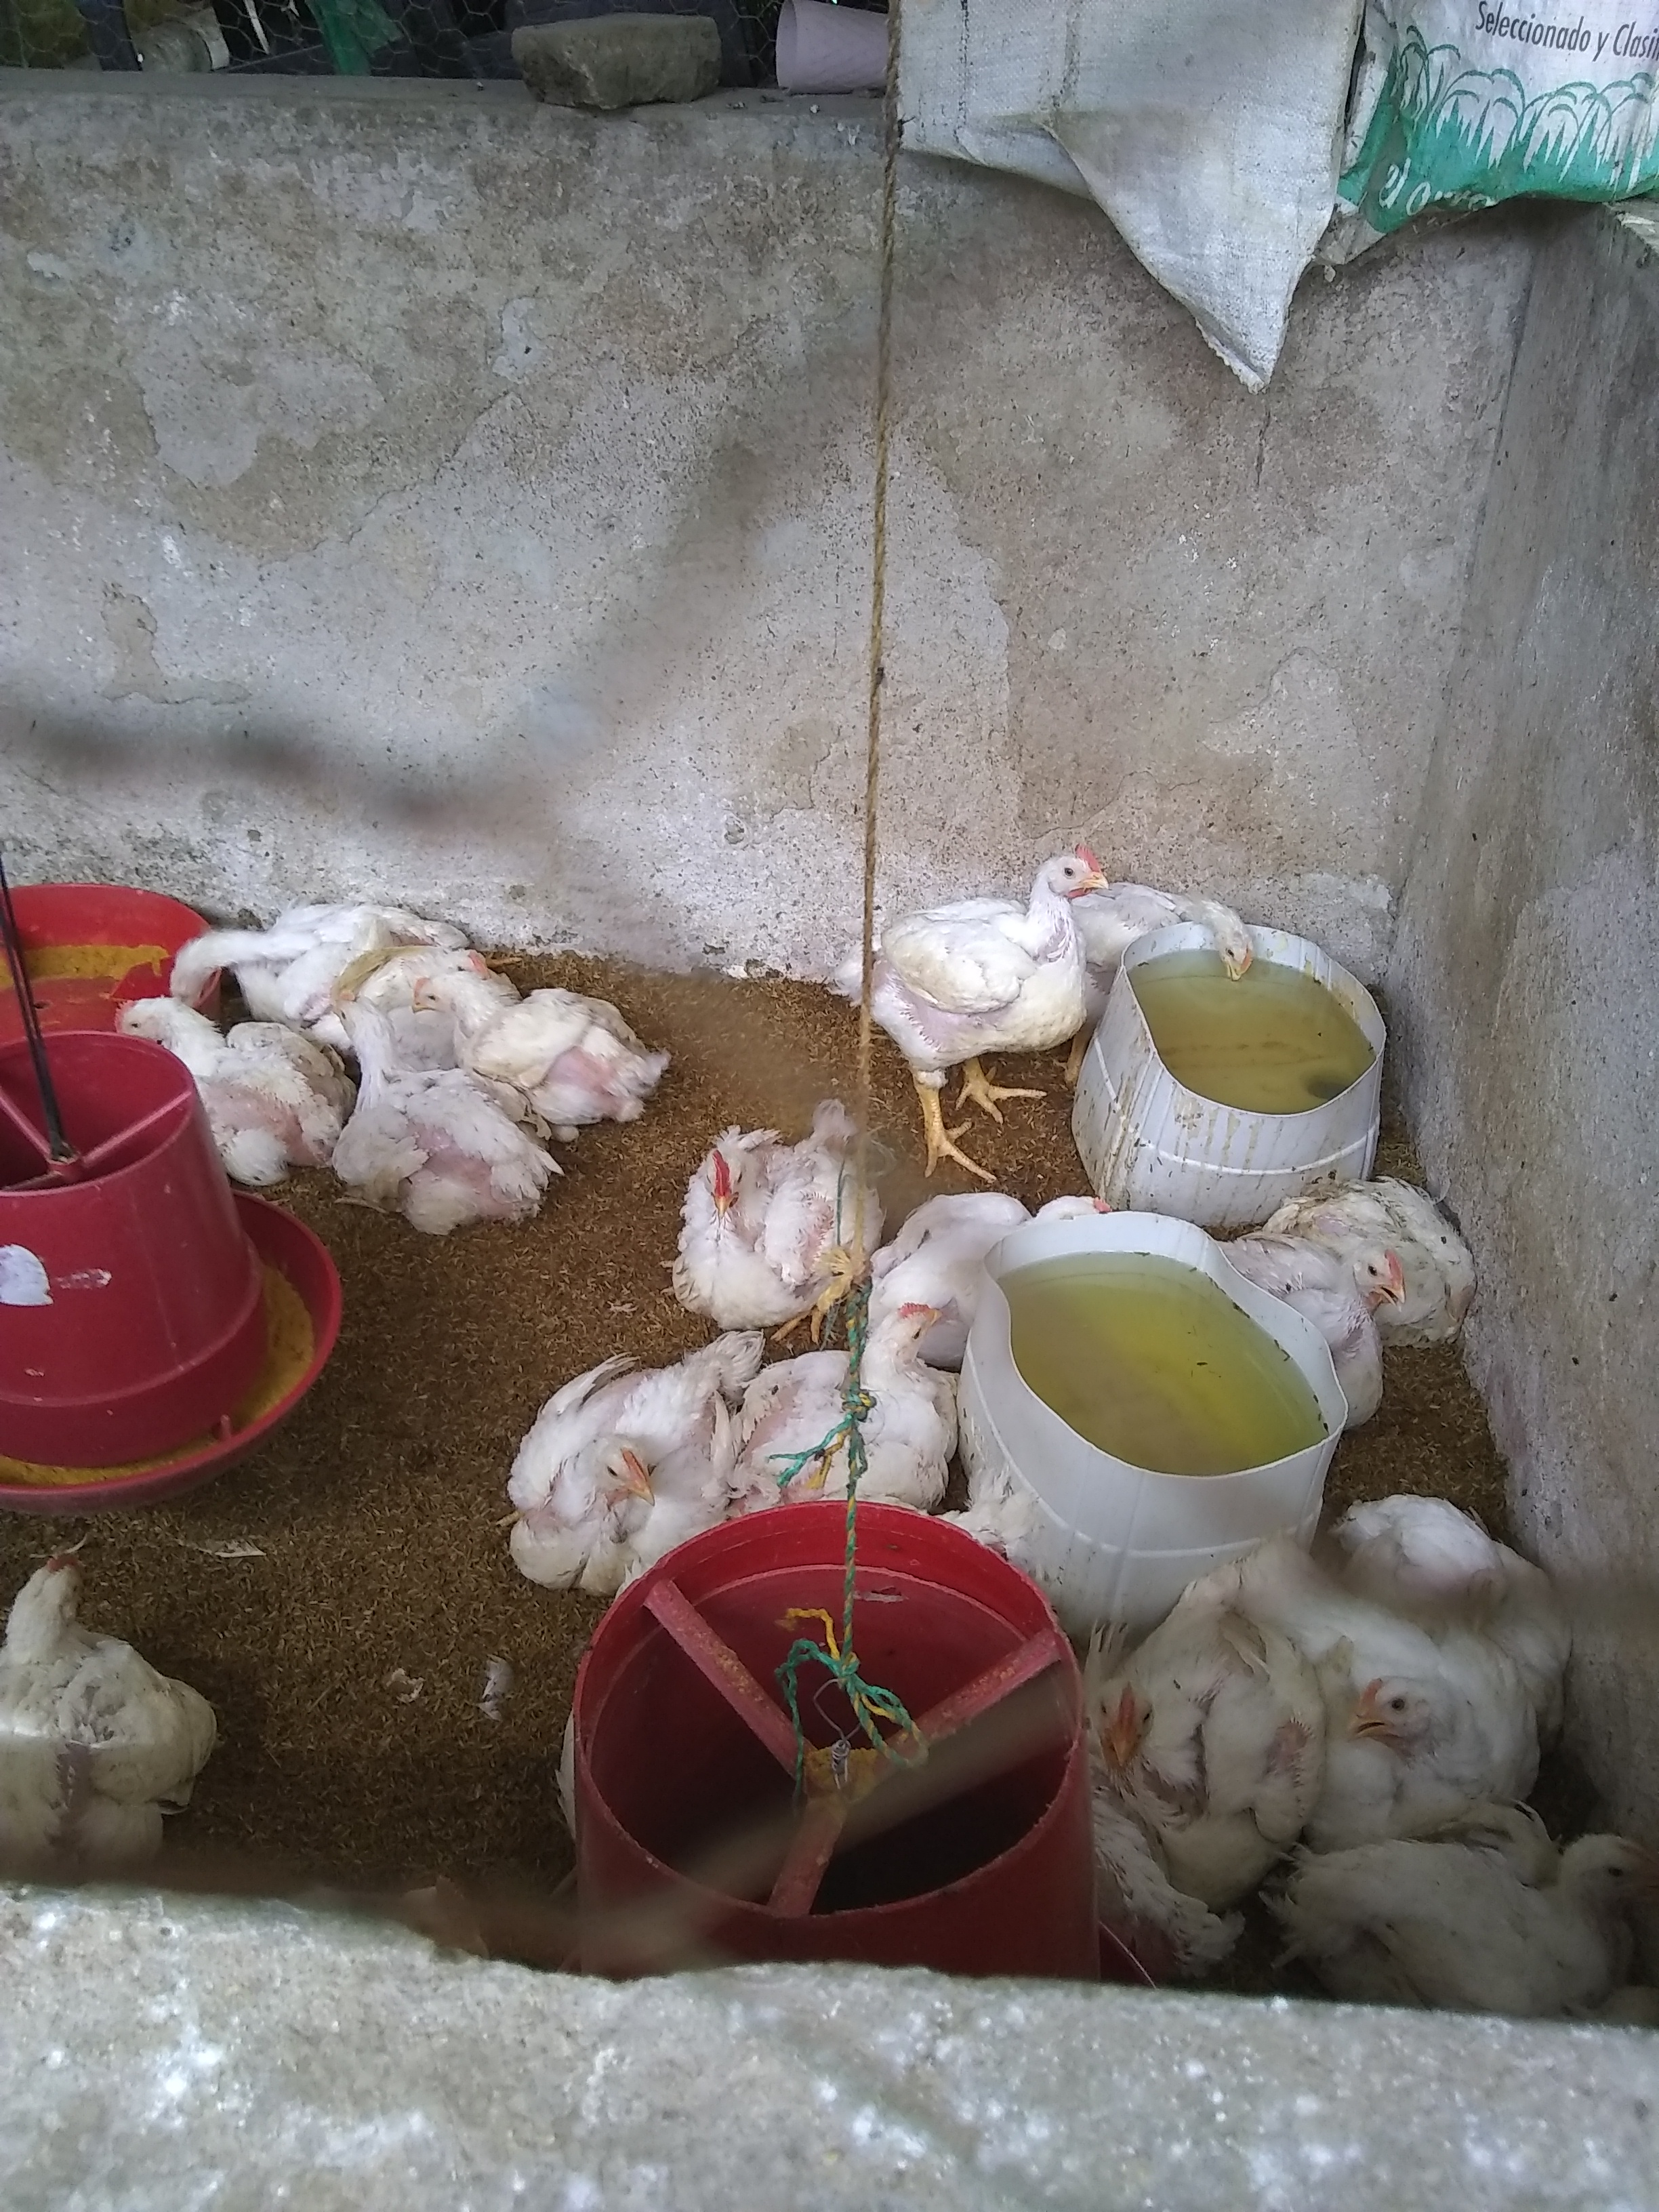Pollos: (0, 1521, 254, 1946), (847, 834, 1098, 1179), (1072, 1552, 1326, 1890), (1319, 1797, 1659, 2026), (732, 1287, 1014, 1547), (1331, 1491, 1561, 1794), (476, 1315, 725, 1588), (322, 993, 551, 1231), (1201, 1188, 1385, 1432), (671, 1113, 873, 1334), (861, 1176, 1122, 1345), (113, 981, 317, 1188), (413, 954, 652, 1120), (1317, 1162, 1495, 1359), (1060, 873, 1262, 1031), (164, 869, 389, 1008)
